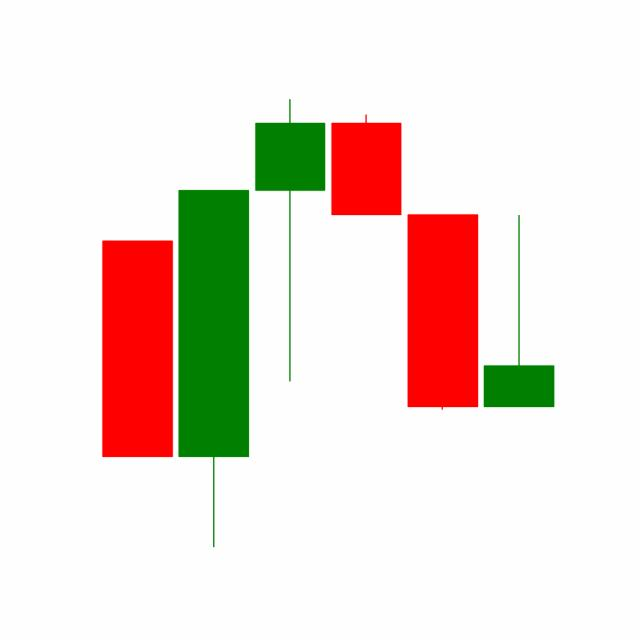Marubozu: (403, 211, 481, 412)
